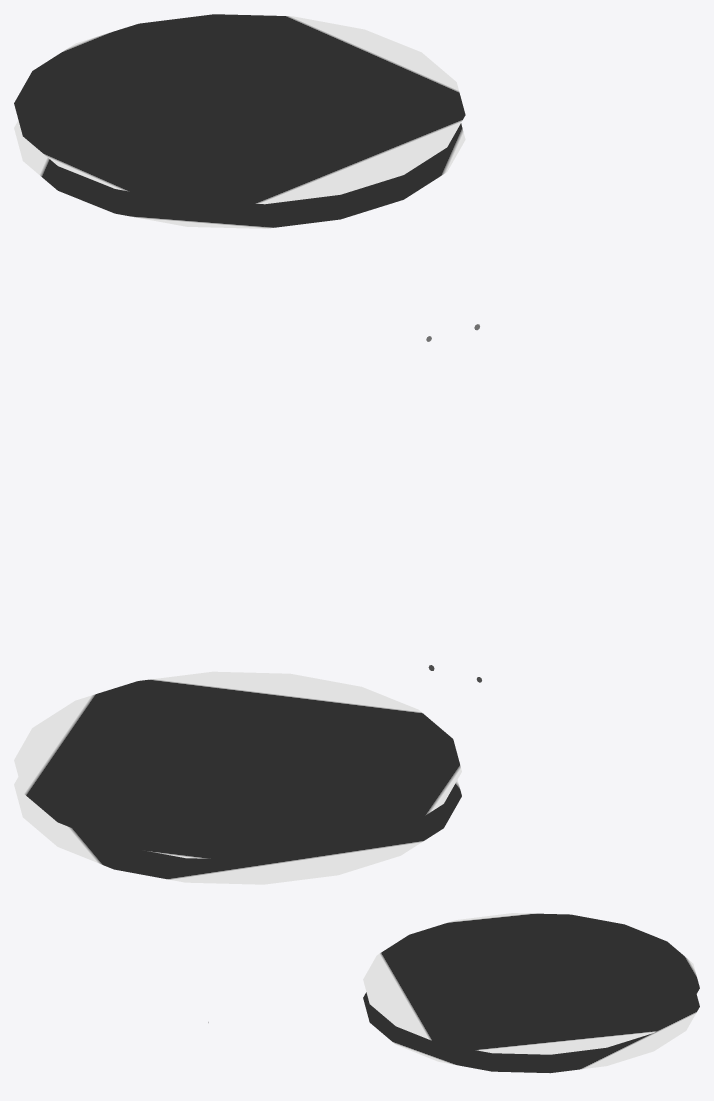
The model's file is small_helicopter.fbx.
3 views of the same model, one above another, from view 1: azimuth 30°, elevation 25°; view 2: azimuth 150°, elevation 25°; view 3: azimuth 270°, elevation 25° (orthographic). The views are drawn at different scales.
Parts seen in each view (by area): view 1: smallhelicopter_rotorblades_blur_top, smallhelicopter_rotorblades_blur_bottom; view 2: smallhelicopter_rotorblades_blur_top, smallhelicopter_rotorblades_blur_bottom; view 3: smallhelicopter_rotorblades_blur_top, smallhelicopter_rotorblades_blur_bottom.
Part boxes in pixels (<box>): smallhelicopter_rotorblades_blur_top: <box>14,14,465,204</box>; smallhelicopter_rotorblades_blur_bottom: <box>14,120,465,228</box>; smallhelicopter_rotorblades_blur_top: <box>14,671,461,860</box>; smallhelicopter_rotorblades_blur_bottom: <box>14,777,461,884</box>; smallhelicopter_rotorblades_blur_top: <box>363,913,699,1054</box>; smallhelicopter_rotorblades_blur_bottom: <box>363,992,699,1073</box>.
Bounding box in the file's own units: 782 × 275 × 1599.
Materials: 4 (3 with a texture image).
